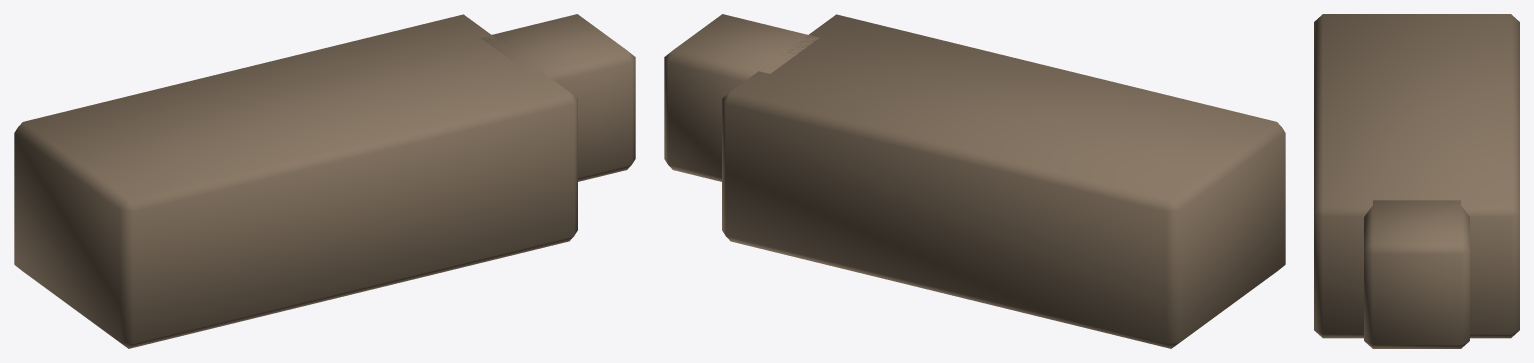
File: hound-sleeping.glb
3 views of the same model, side by side, from view 1: azimuth 30°, elevation 25°; view 2: azimuth 150°, elevation 25°; view 3: azimuth 270°, elevation 25° (orthographic). The views are drawn at different scales.
Parts seen in each view (by area): view 1: hound_sleeping; view 2: hound_sleeping; view 3: hound_sleeping.
Boxes of the visible parts, x1=… form: hound_sleeping: x1=14, y1=14, x2=635, y2=348; hound_sleeping: x1=664, y1=14, x2=1285, y2=348; hound_sleeping: x1=1314, y1=14, x2=1519, y2=348.
Bounding box in the file's own units: 0.95 × 0.25 × 0.35.
Materials: 1 (1 with a texture image).
